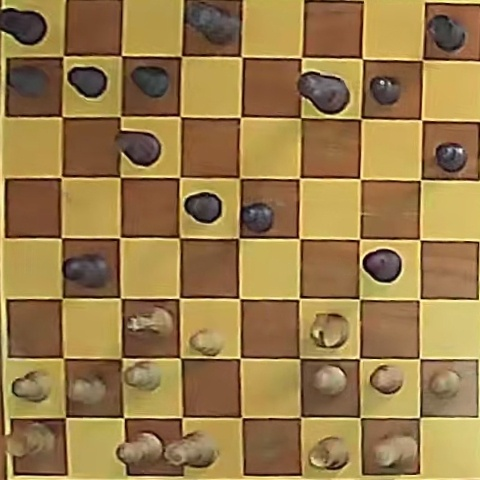black-bishop: (64, 253, 109, 288), (363, 249, 402, 283)
black-king: (298, 72, 350, 113)
black-knight: (115, 132, 161, 166)
black-pawn: (8, 65, 49, 98), (67, 66, 107, 99), (131, 66, 170, 98), (184, 191, 221, 222), (241, 202, 274, 232), (434, 142, 466, 172), (371, 76, 401, 105)
black-queen: (185, 2, 239, 45)
black-rook: (0, 7, 47, 46), (426, 14, 466, 53)
white-bishop: (117, 432, 165, 465)
white-king: (374, 434, 418, 469)
white-knight: (126, 306, 173, 337), (310, 313, 348, 348)
white-pawn: (13, 370, 52, 402), (69, 374, 107, 405), (124, 361, 161, 391), (313, 365, 348, 396), (370, 364, 404, 394), (429, 369, 462, 399), (189, 329, 224, 355)
white-queen: (164, 431, 219, 468)
white-rook: (6, 422, 55, 458), (308, 436, 349, 470)
